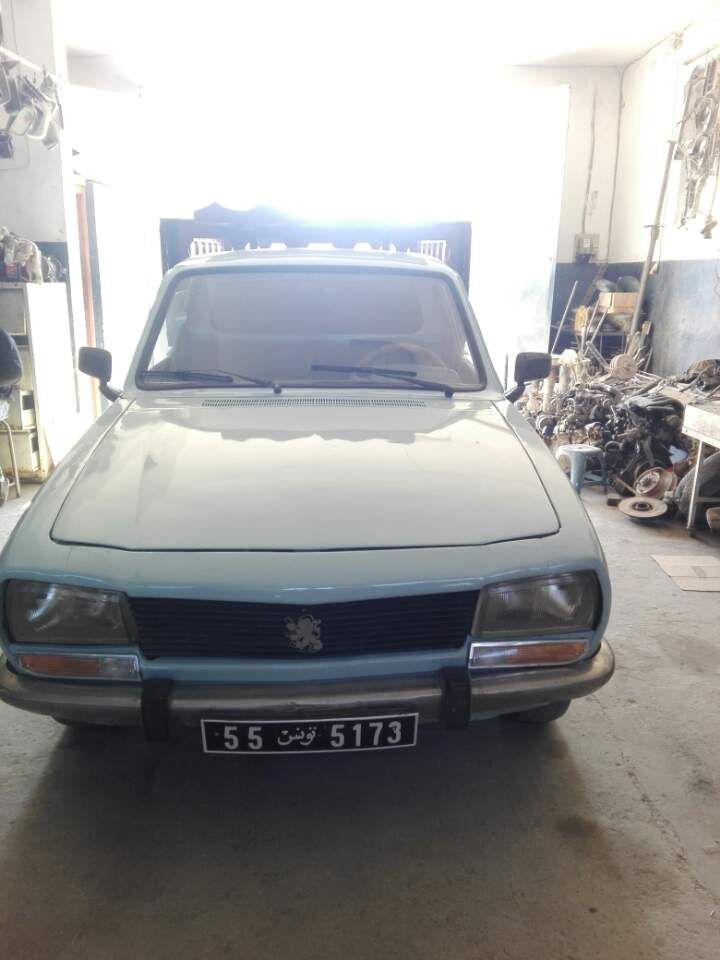LP: (198, 718, 422, 754)
